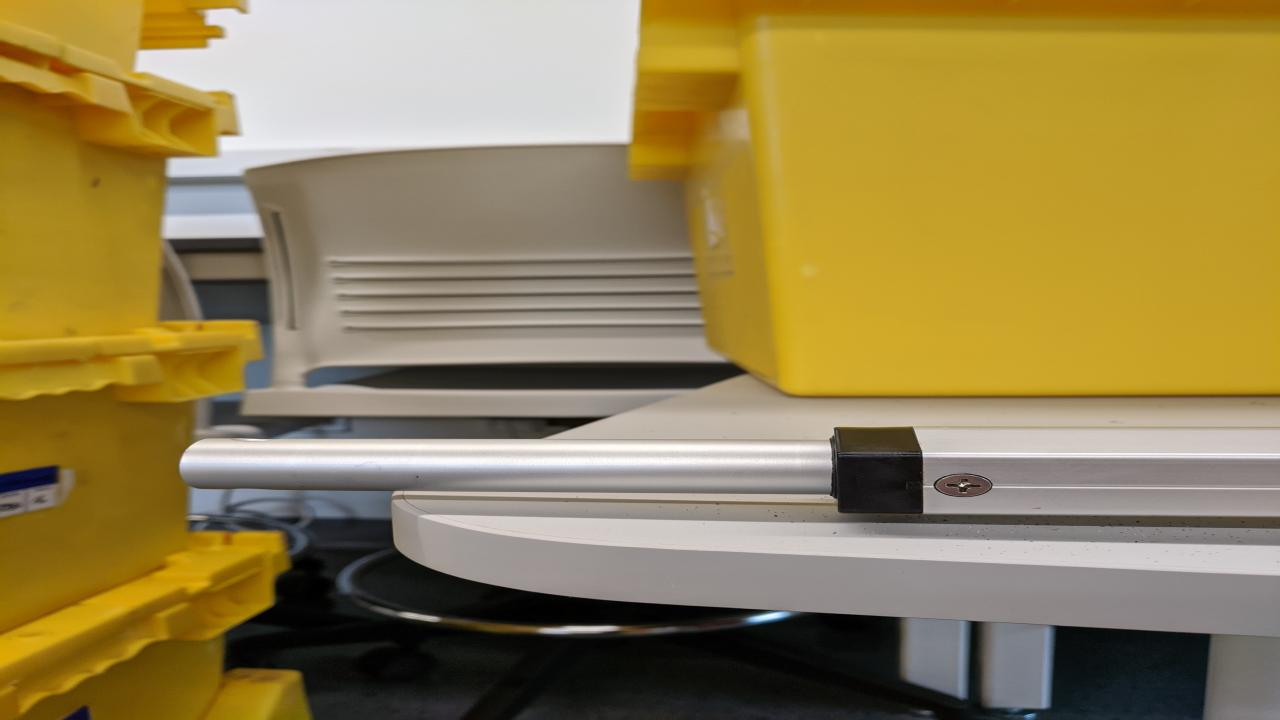CRS: (937, 471, 993, 497)
